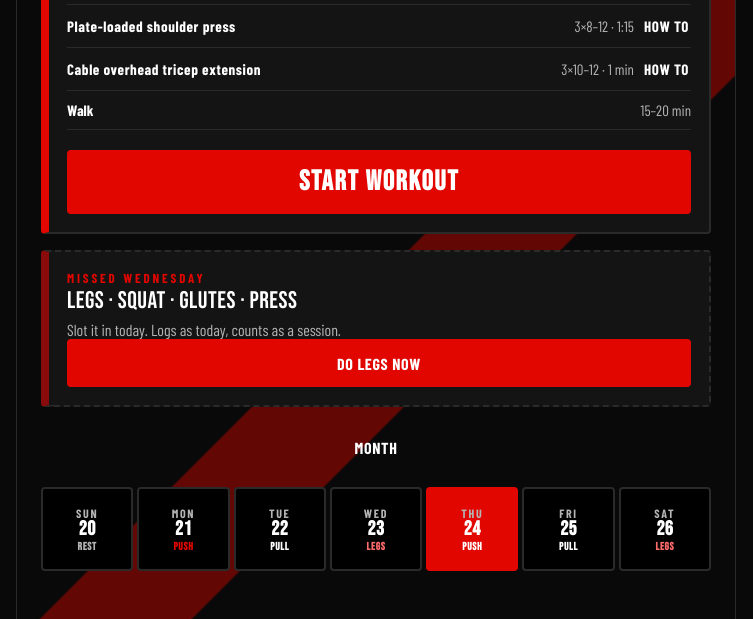
Test: Gym Log app › seeds +5 when every last set hit the top of the range
(page scrolled)
What coordinates should you click on to do the following:
click the button with class "week-day" showing "Mon 21 PUSH"
I would click on:
 (183, 529)
Its box is x1=137 y1=487 x2=230 y2=571.
(page scrolled)
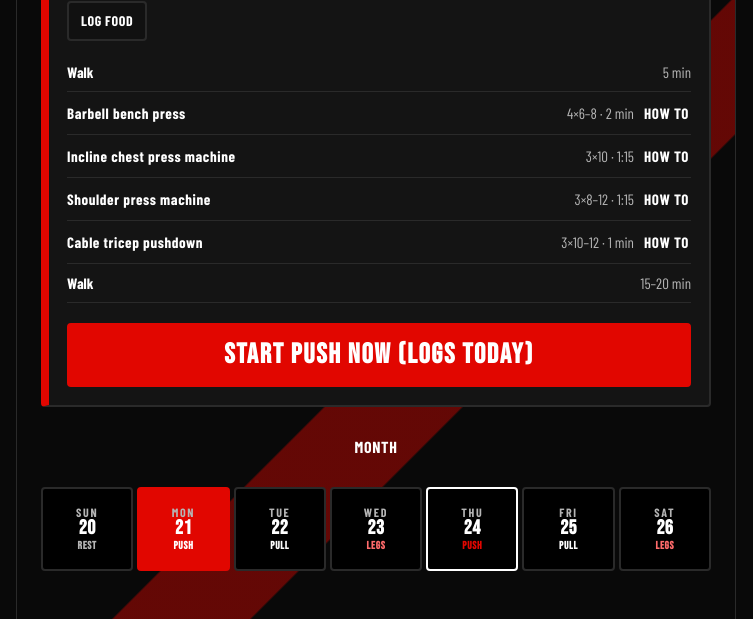
What coordinates should you click on to do the following:
click the button "Start Push now (logs today)"
I would click on:
 (379, 355)
Its box is x1=67 y1=323 x2=691 y2=387.
(page scrolled)
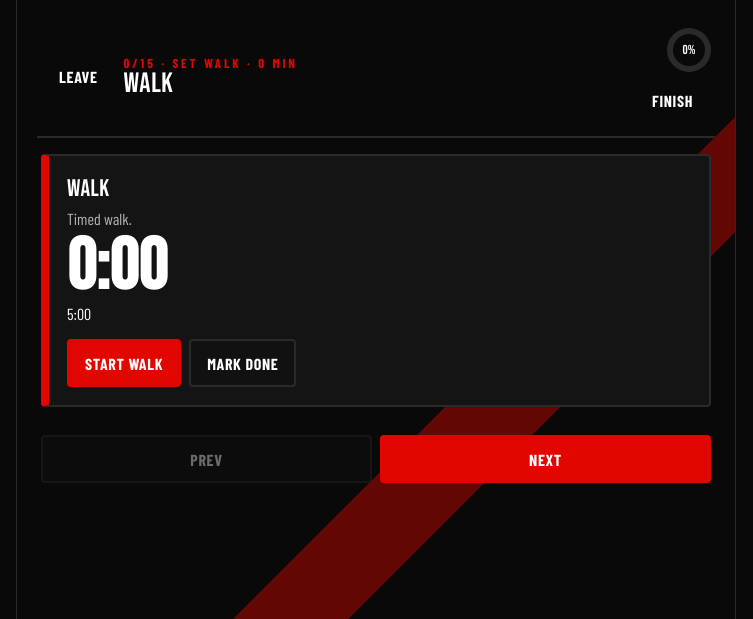
What coordinates should you click on to do the following:
click the button "Next"
I would click on:
 (546, 459)
Its box is x1=380 y1=435 x2=711 y2=483.
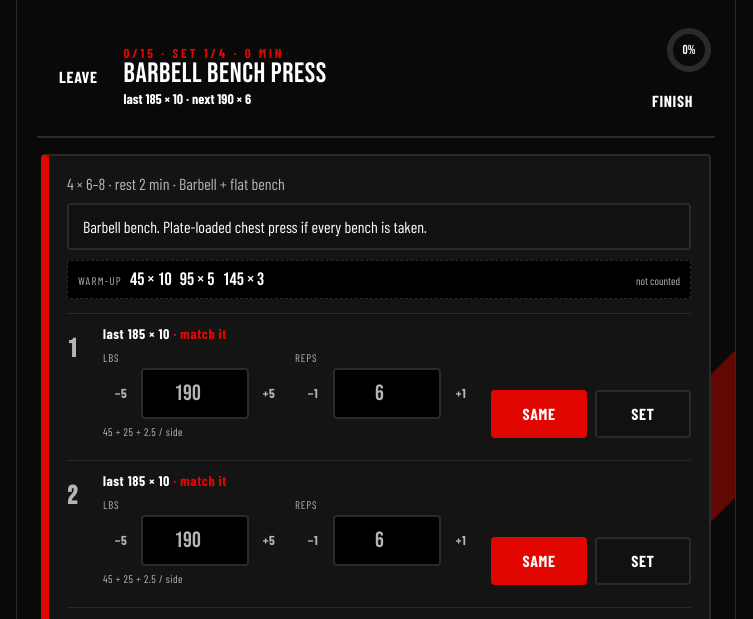
Result: the text "last 185 × 10 · next 190 × 6" is shown at x1=124 y1=90 x2=251 y2=107
Result: the 1st number field named "lbs" holds "190" at x1=141 y1=368 x2=249 y2=419
Result: the text "Warm-up" is shown at x1=78 y1=274 x2=122 y2=287
